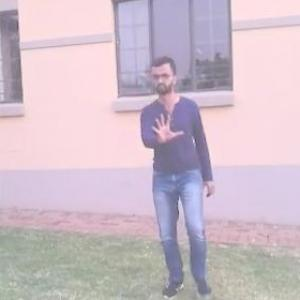follow_hand: (149, 108, 186, 148)
